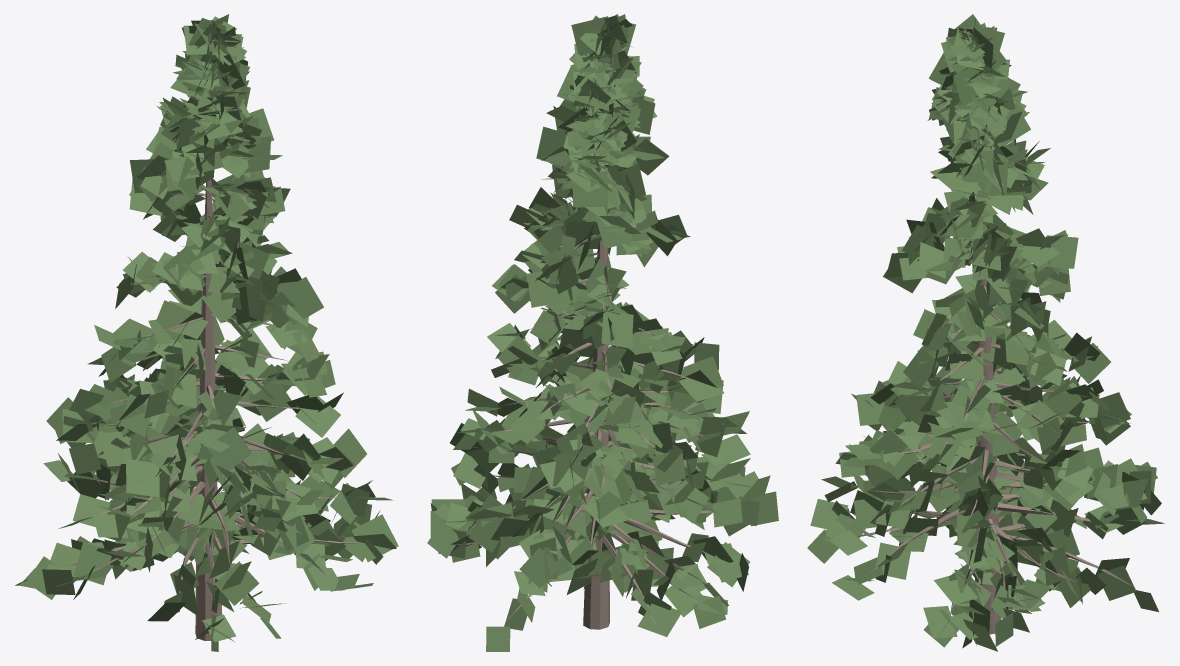
Rendered from gran_mellan_lod2.glb.
3 views of the same model, side by side, from view 1: azimuth 30°, elevation 25°; view 2: azimuth 150°, elevation 25°; view 3: azimuth 270°, elevation 25° (orthographic). The views are drawn at different scales.
Parts seen in each view (by area): view 1: Tree; view 2: Tree; view 3: Tree.
Boxes of the visible parts, x1,y1,x2,y2 form: Tree: [15, 14, 398, 651]; Tree: [427, 14, 778, 651]; Tree: [807, 14, 1164, 651].
Bounding box in the file's own units: 7.94 × 14.16 × 7.59.
